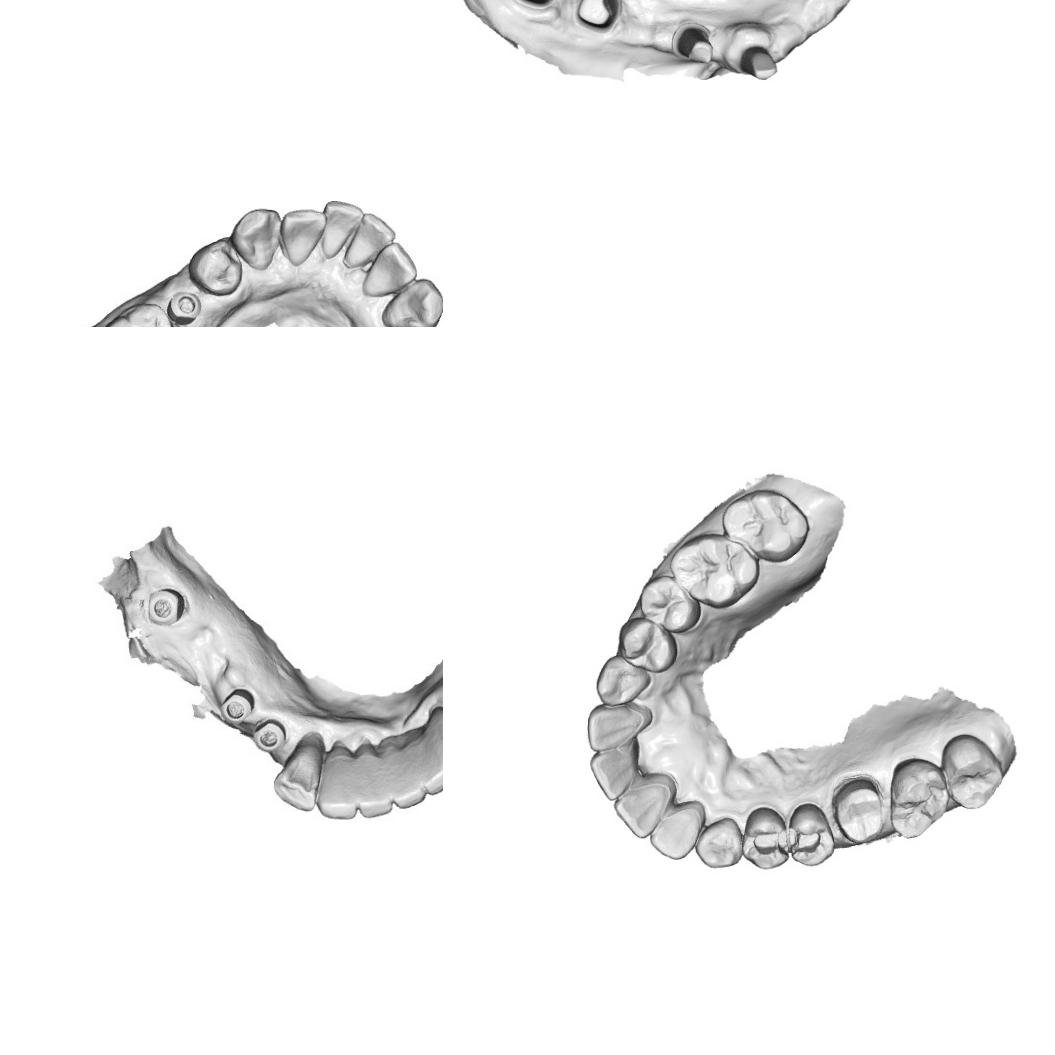abutment: (736, 37, 779, 84), (673, 22, 717, 66), (574, 0, 624, 35), (509, 0, 560, 11)
canine: (274, 731, 324, 815), (377, 276, 443, 327), (230, 207, 280, 272), (594, 654, 654, 708), (692, 812, 744, 870), (429, 702, 443, 775)
crown: (826, 770, 890, 846)
implant: (141, 583, 185, 630), (216, 678, 256, 721), (250, 720, 287, 756), (169, 290, 204, 326)
incisor: (611, 772, 676, 840), (647, 799, 713, 861), (318, 738, 362, 822), (360, 241, 420, 300), (585, 701, 653, 753), (344, 206, 396, 269), (587, 743, 641, 801), (384, 740, 428, 806), (359, 740, 394, 820), (280, 206, 324, 268), (316, 198, 358, 260), (405, 731, 443, 794)
inlay: (786, 821, 828, 861), (748, 820, 786, 863)
molar: (668, 531, 762, 610), (719, 487, 812, 564), (888, 756, 953, 840), (940, 733, 1008, 812), (96, 299, 182, 327)
premolar: (638, 574, 702, 634), (188, 235, 243, 300), (616, 616, 678, 673)
